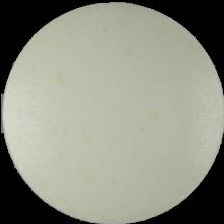66336-099: (0, 0, 224, 224)
